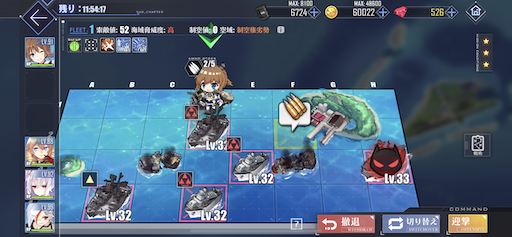boss: (360, 137, 411, 184)
lv1: (80, 172, 132, 221)
lv3: (226, 134, 274, 183), (177, 172, 225, 220), (186, 105, 232, 147)
